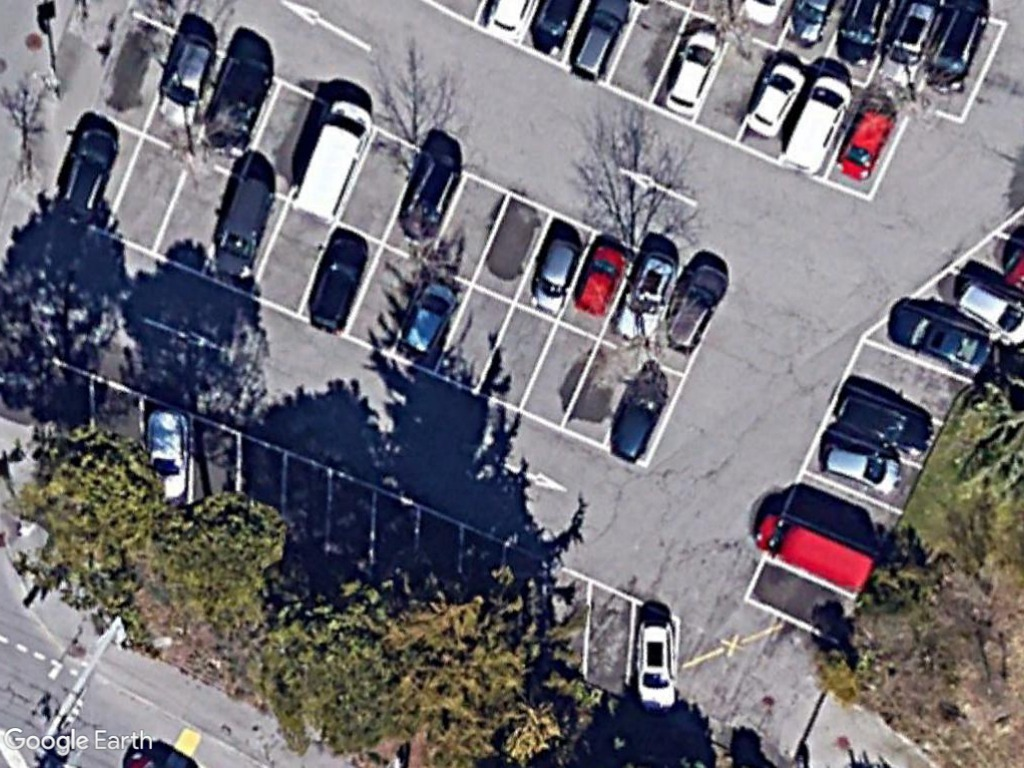car: (890, 299, 991, 377), (611, 249, 686, 346), (211, 172, 277, 280), (152, 32, 220, 135), (303, 233, 368, 339), (662, 261, 734, 354), (396, 149, 464, 245), (58, 126, 122, 219), (660, 26, 722, 118), (816, 437, 903, 496), (632, 607, 680, 713), (837, 103, 899, 185), (524, 235, 584, 319), (741, 58, 801, 137), (398, 282, 456, 360), (574, 242, 628, 318)
van: (751, 506, 876, 601), (289, 98, 374, 227), (777, 74, 851, 171)
